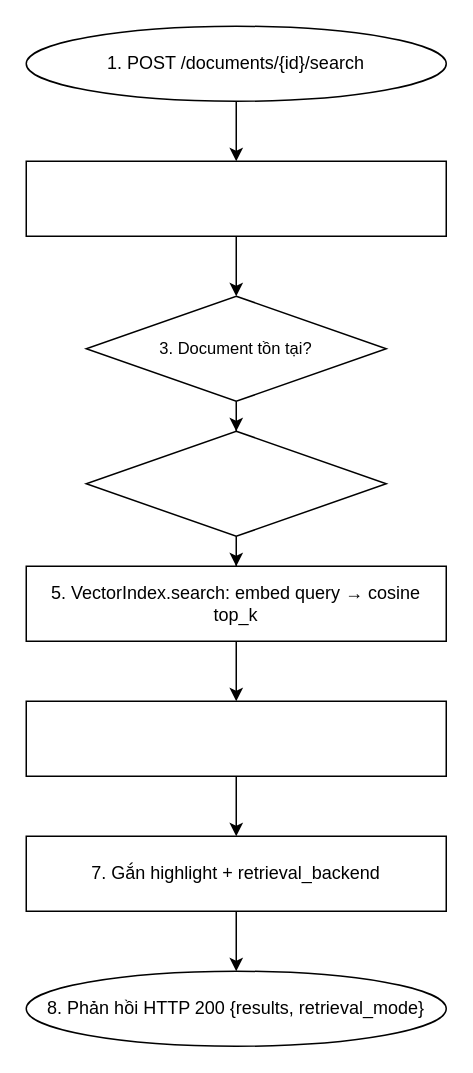
This 473x1073 diagram has some shape labels left out. Each missing label, with the centre of its shape:
2. DocumentService.get_document(document_id): pixel 235 198
4. Có embeddings?: pixel 235 483
6. Fallback _lexical_chunk_results (BM25-like): pixel 235 738
